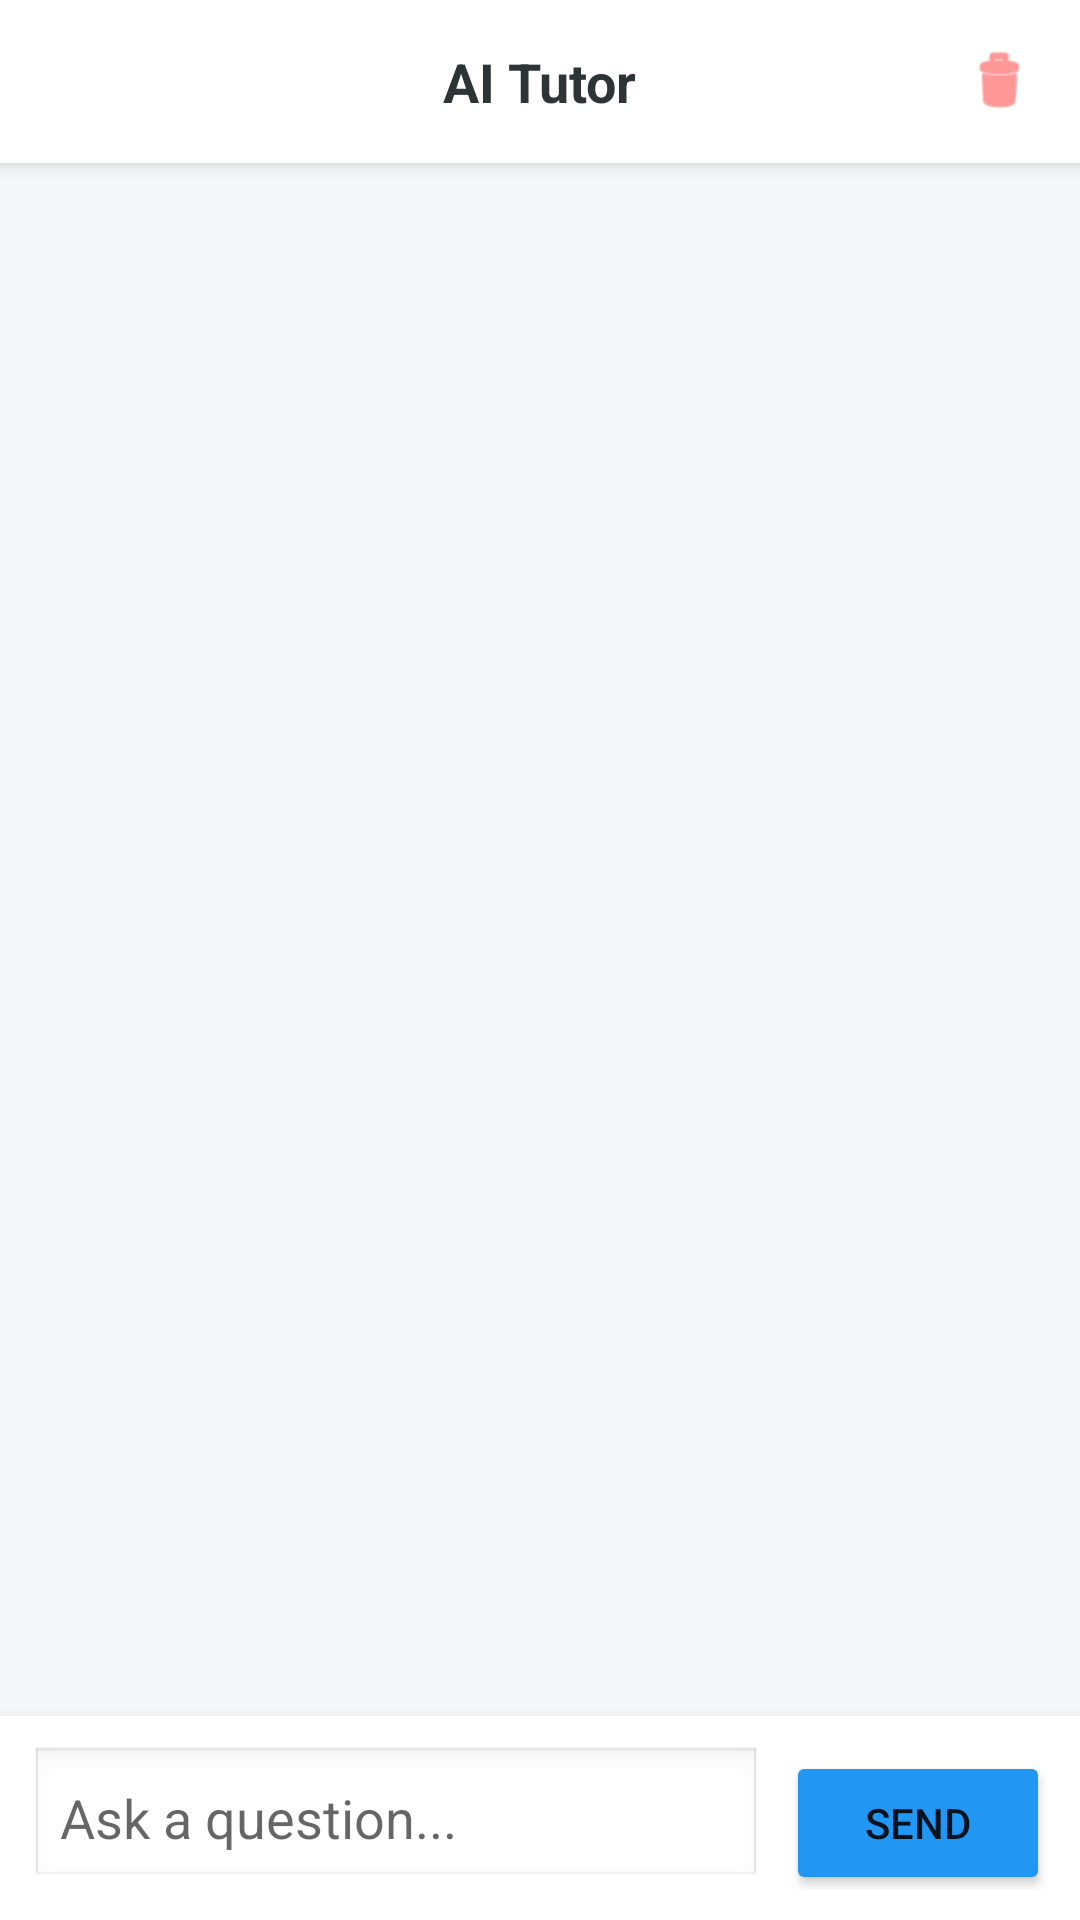

Screen size 1080 x 1920. Icon name, then its box in pixels as (x1, y1, x2, y2):
delete: (979, 52, 1020, 108)
